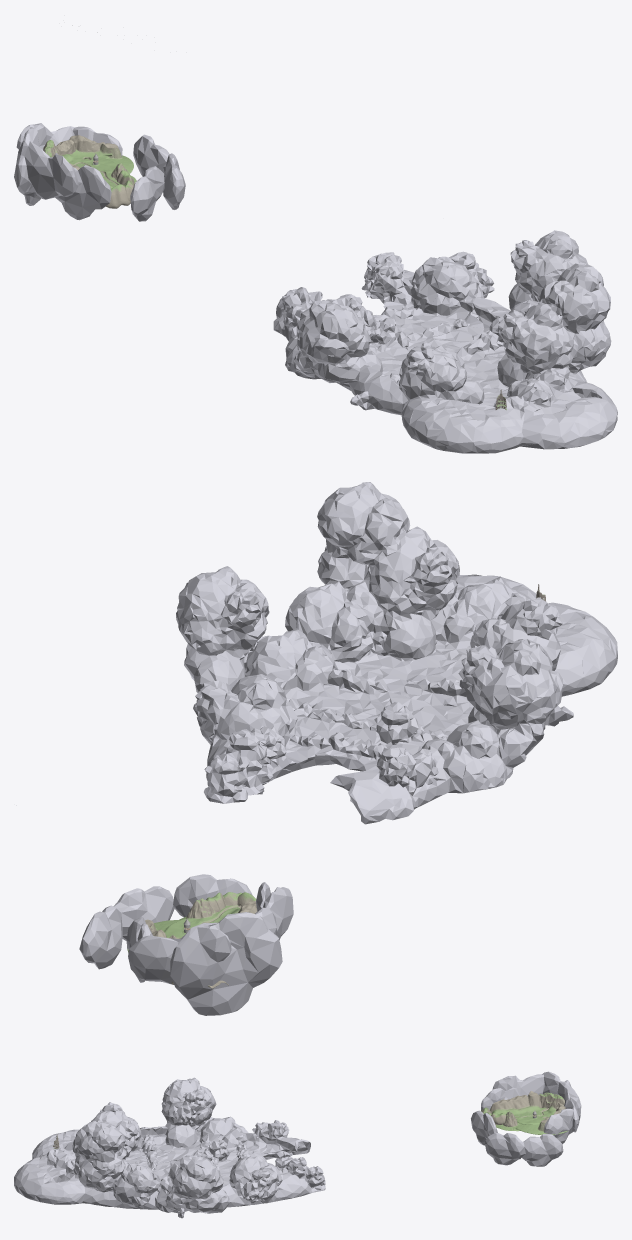
The model's file is BstBaked.glb.
3 renders of one model, top to bottom at view 1: azimuth 30°, elevation 25°; view 2: azimuth 150°, elevation 25°; view 3: azimuth 270°, elevation 25°, orthographic. The views are drawn at different scales.
Parts seen in each view (by area): view 1: BstBaked_cloud, BstBaked_terrain; view 2: BstBaked_cloud, BstBaked_terrain; view 3: BstBaked_cloud, BstBaked_terrain.
Part boxes in pixels (<box>): BstBaked_cloud: <box>14,123,617,453</box>; BstBaked_terrain: <box>43,135,506,410</box>; BstBaked_cloud: <box>79,482,617,1015</box>; BstBaked_terrain: <box>127,584,545,988</box>; BstBaked_cloud: <box>14,1071,581,1218</box>; BstBaked_terrain: <box>53,1091,567,1148</box>.
Size of what is drawn, in the model's own units: 1031 by 466 by 2375.
